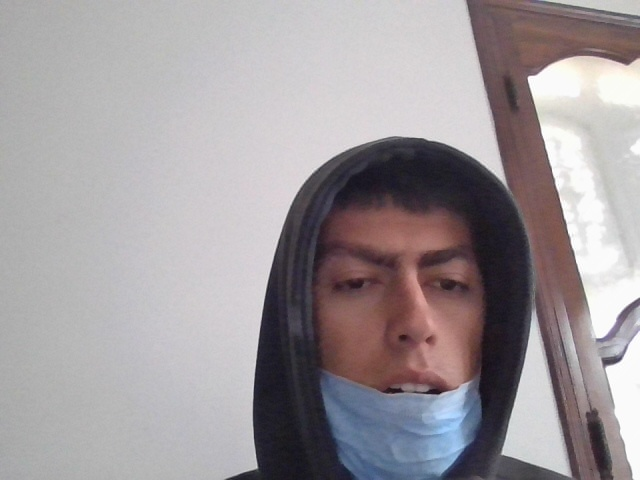mask_weared_incorrect: (304, 183, 497, 480)
